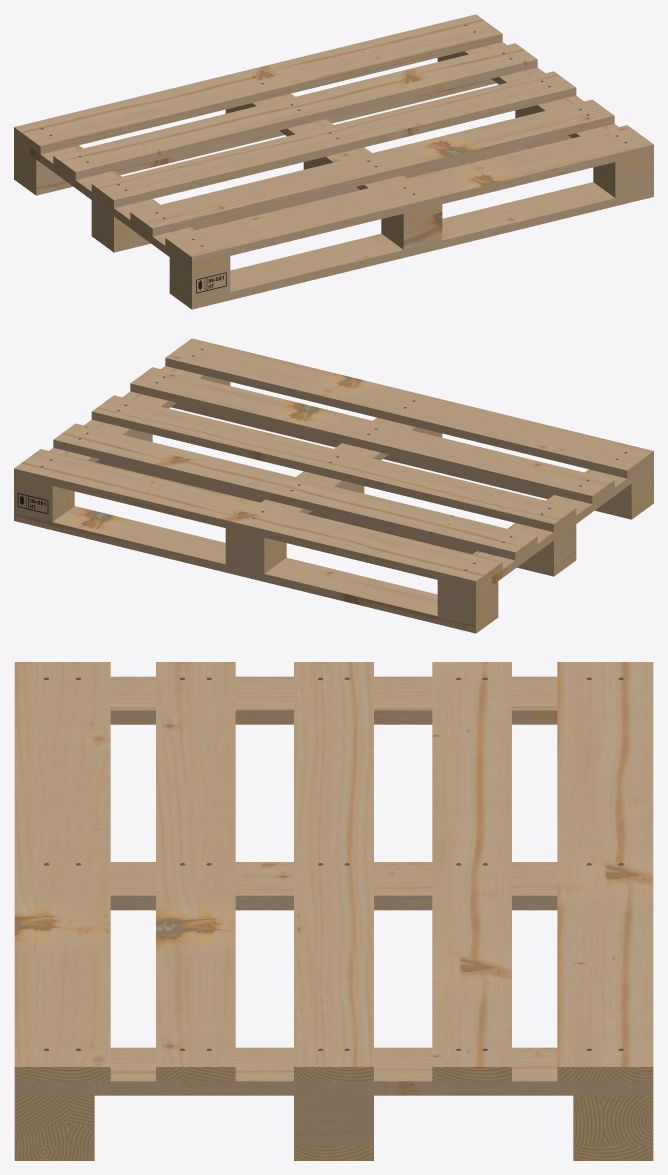
File: pw01-pinewood-pallet-800x1200.glb
The picture shows the model from 3 angles, top to bottom: view 1: azimuth 30°, elevation 25°; view 2: azimuth 150°, elevation 25°; view 3: azimuth 270°, elevation 25°; orthographic projection. The views are drawn at different scales.
Parts seen in each view (by area): view 1: pw01-pinewood-pallet-800x1200; view 2: pw01-pinewood-pallet-800x1200; view 3: pw01-pinewood-pallet-800x1200.
Part boxes in pixels (x1,y1,x2,y2): pw01-pinewood-pallet-800x1200: [14, 14, 653, 309]; pw01-pinewood-pallet-800x1200: [14, 338, 653, 633]; pw01-pinewood-pallet-800x1200: [14, 662, 653, 1160].
Size of the model in its own units: 1.2 by 0.131 by 0.8019.
Materials: 4 (3 with a texture image).
